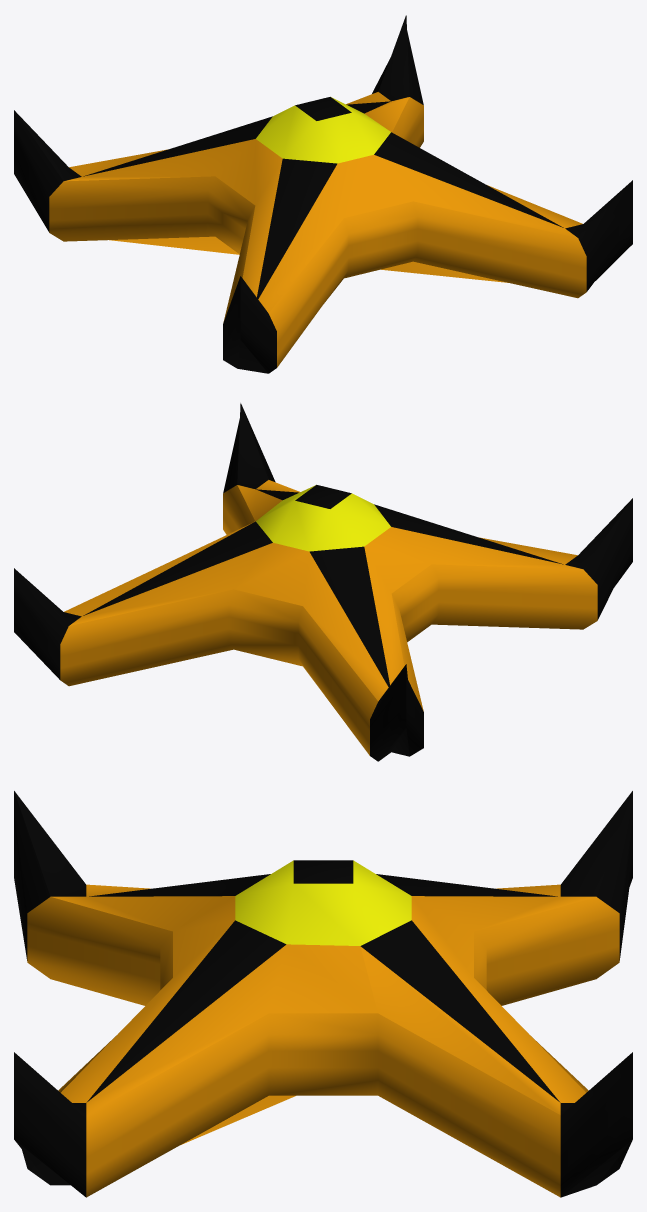
File: StarShip.fbx
3 views of the same model, one above another, from view 1: azimuth 30°, elevation 25°; view 2: azimuth 150°, elevation 25°; view 3: azimuth 270°, elevation 25° (orthographic). The views are drawn at different scales.
Parts seen in each view (by area): view 1: StarShip; view 2: StarShip; view 3: StarShip.
Part boxes in pixels (x1,y1,x2,y2): StarShip: (14,15,632,373); StarShip: (14,403,632,761); StarShip: (14,791,632,1197).
Bounding box in the file's own units: 7.94 × 2.99 × 7.94.
